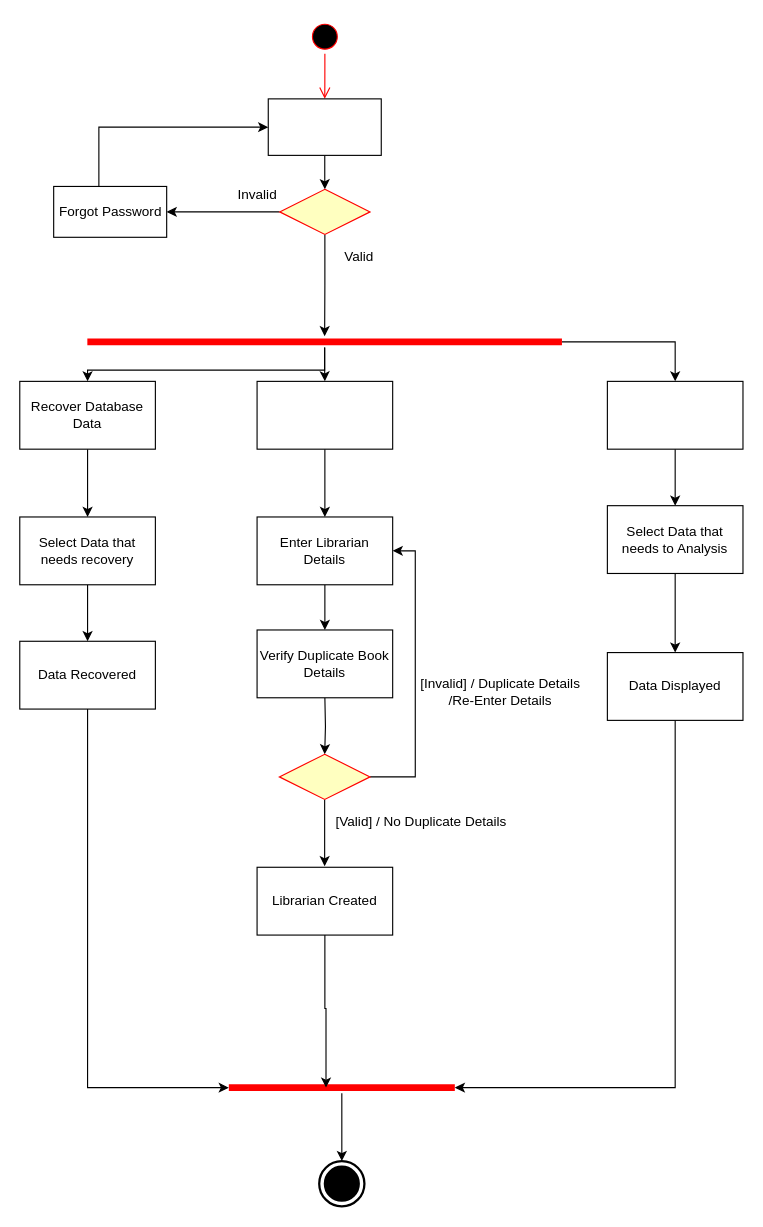
This 763x1227 diagram has some shape labels left out. The centre of each missing label's shape, as x and y in pixels:
Create Librarian Account: point (324, 414)
Data Analysis: point (674, 414)
Login: point (324, 126)
Verify: point (324, 211)
